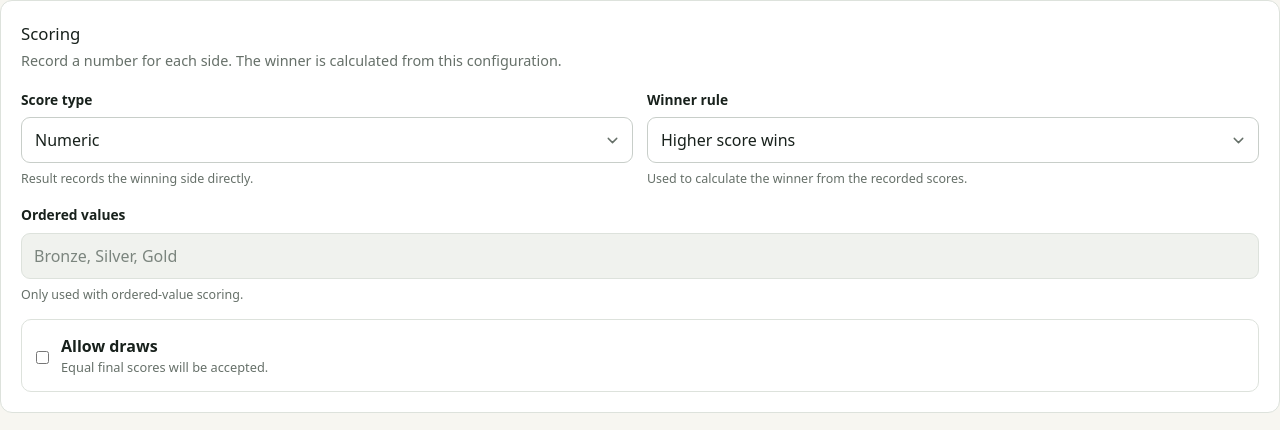
it: CompetitionScoringFields › explains that winner direction is unused for result scoring
The width and height of the screenshot is (1280, 430).
Click the dropdown named "Score type" at (67, 140), box [21,117,633,163]
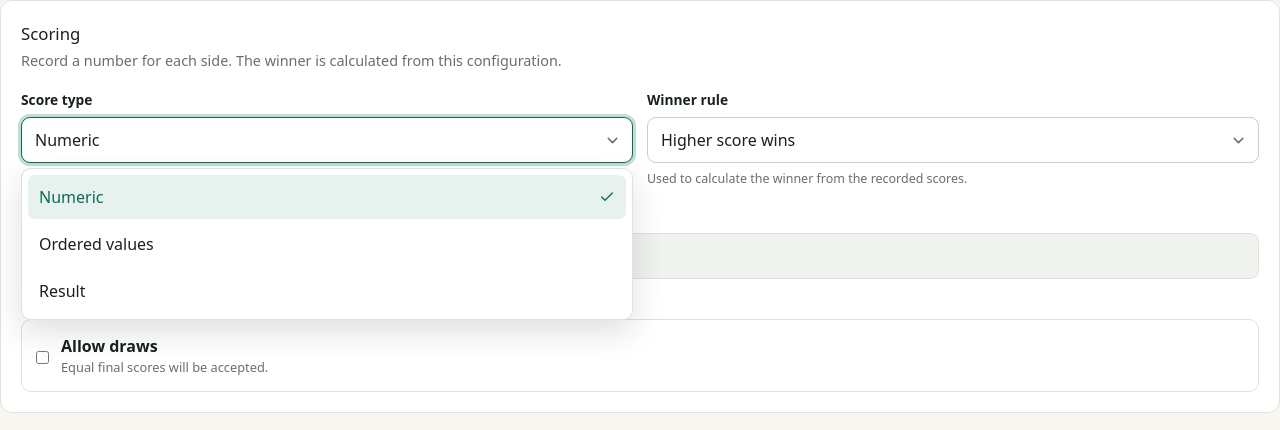
Click the option "Result" at (62, 291), box [28,269,626,313]
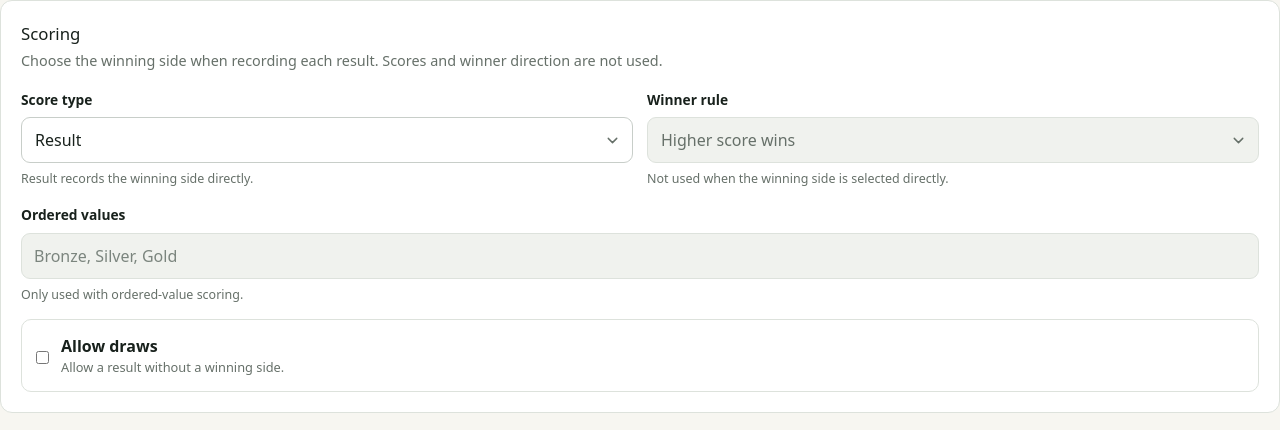
Expected: the element named "winnerDirection" holds "HIGHER_WINS", [21,90,1259,189]
Now the text "winning side when recording" is shown, box [21,51,663,70]
Now the dropdown named "Winner rule" is disabled, box [647,117,1259,163]
